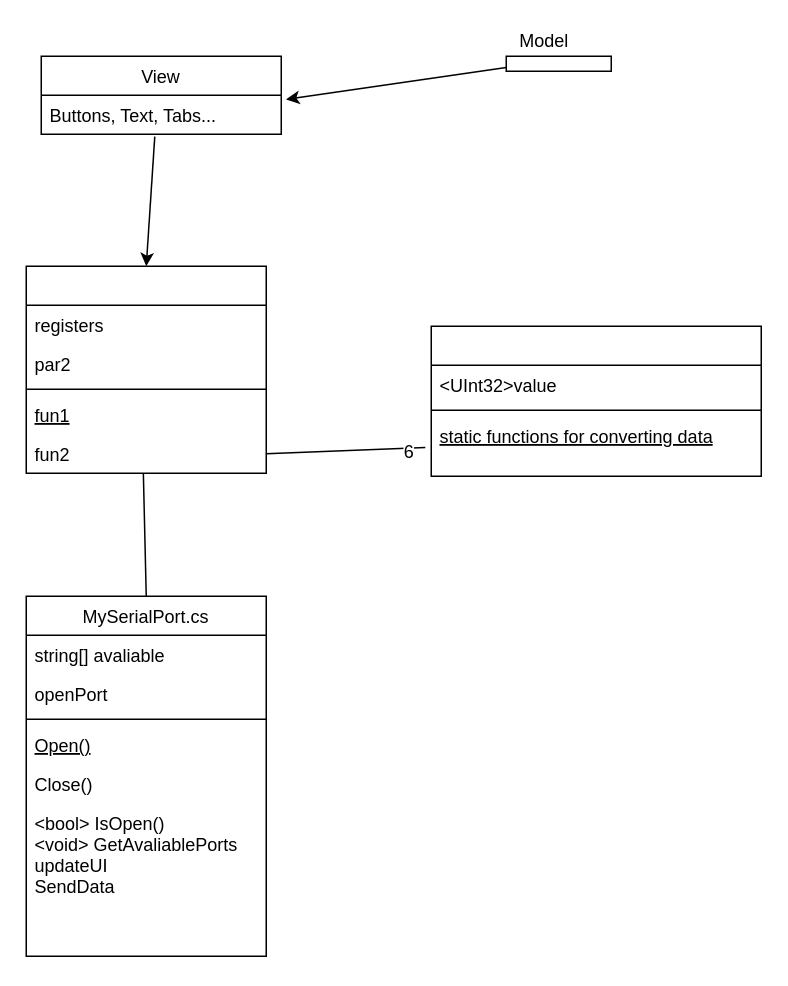
Some shapes in this 788 by 986 pixel diagram are drawn without their labels. The box of each missing label's shape, as (x1, y1, x2, y2) in pixels:
Controller: (25, 265, 266, 473)
MyRegistr.cs: (430, 325, 761, 476)
